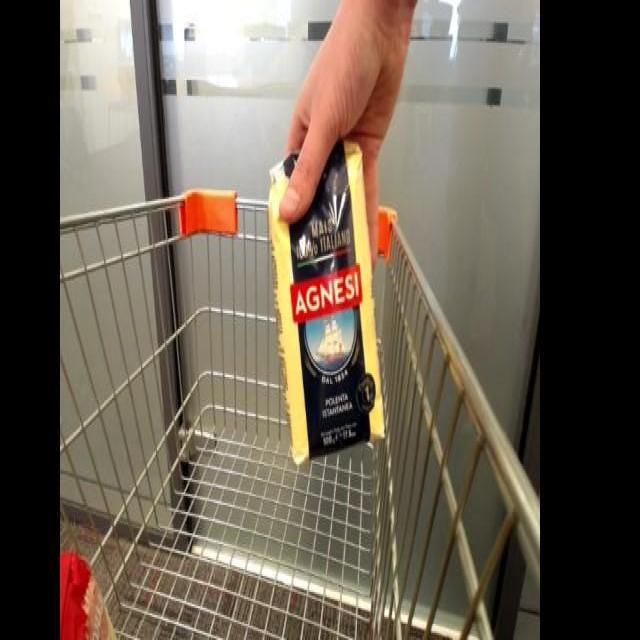Agnesi Polenta: (264, 129, 392, 468)
